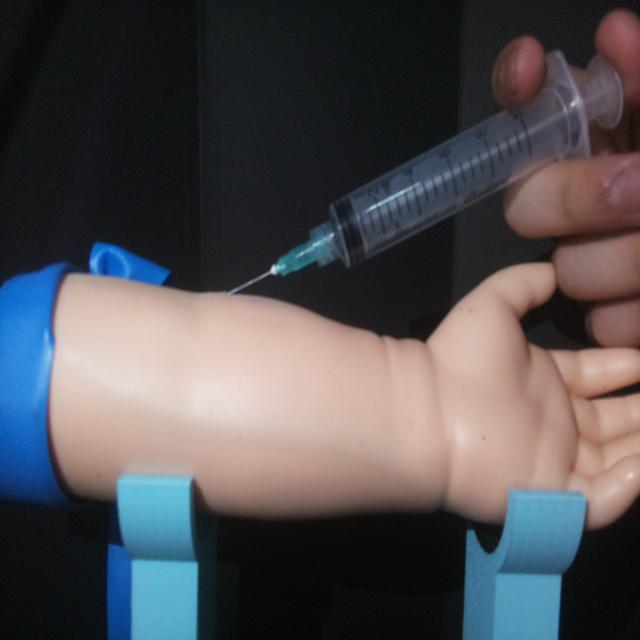24deg: (219, 43, 625, 300)
